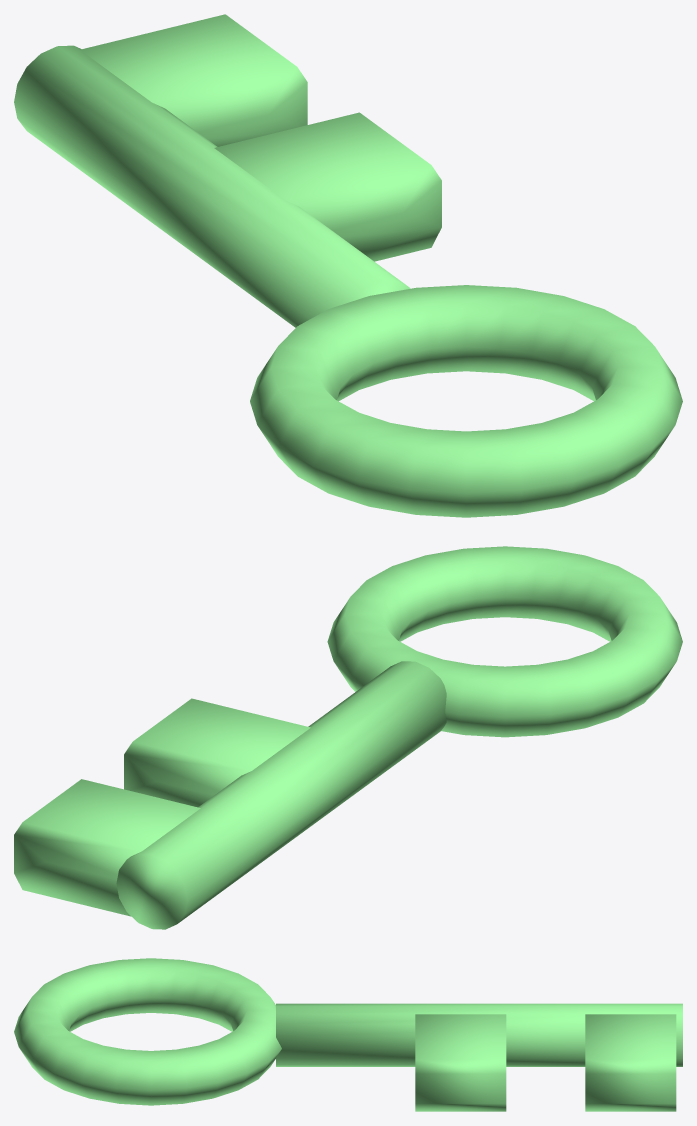
Rendered from Llave Verde.fbx.
3 renders of one model, top to bottom at view 1: azimuth 30°, elevation 25°; view 2: azimuth 150°, elevation 25°; view 3: azimuth 270°, elevation 25°, orthographic. The views are drawn at different scales.
Visible parts, largest first — view 1: Cube.030; view 2: Cube.030; view 3: Cube.030.
Boxes of the visible parts, <box> form: Cube.030: <box>14,14,682,517</box>; Cube.030: <box>14,546,682,929</box>; Cube.030: <box>14,958,682,1111</box>.
Size of the model in its own units: 17 by 3.93 by 41.46.
